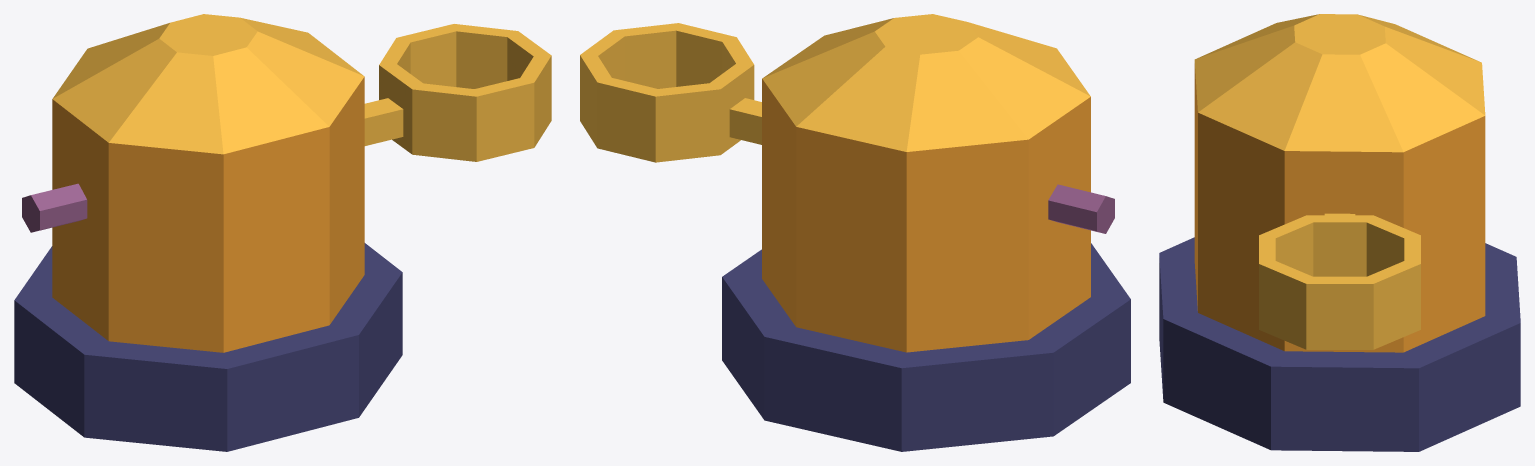
Rendered from puffer_base.glb.
3 views of the same model, side by side, from view 1: azimuth 30°, elevation 25°; view 2: azimuth 150°, elevation 25°; view 3: azimuth 270°, elevation 25° (orthographic).
Visible parts, largest first — view 1: Drum, Plinth, Lid, Cup, Hose, Arm; view 2: Drum, Plinth, Lid, Cup, Hose, Arm; view 3: Plinth, Drum, Lid, Cup.
Boxes of the visible parts, x1,y1,x2,y2 form: Drum: [52, 77, 364, 352]; Plinth: [14, 243, 402, 451]; Lid: [52, 14, 364, 154]; Cup: [379, 24, 551, 161]; Hose: [22, 183, 87, 232]; Arm: [364, 98, 403, 145]; Drum: [762, 79, 1090, 352]; Plinth: [722, 243, 1130, 451]; Lid: [762, 14, 1090, 151]; Cup: [580, 23, 754, 162]; Hose: [1048, 184, 1114, 233]; Arm: [729, 98, 761, 144]; Plinth: [1159, 237, 1520, 451]; Drum: [1194, 63, 1485, 352]; Lid: [1194, 14, 1485, 152]; Cup: [1259, 215, 1420, 349].
Size of the model in its own units: 2.1 by 1.33 by 1.29.
